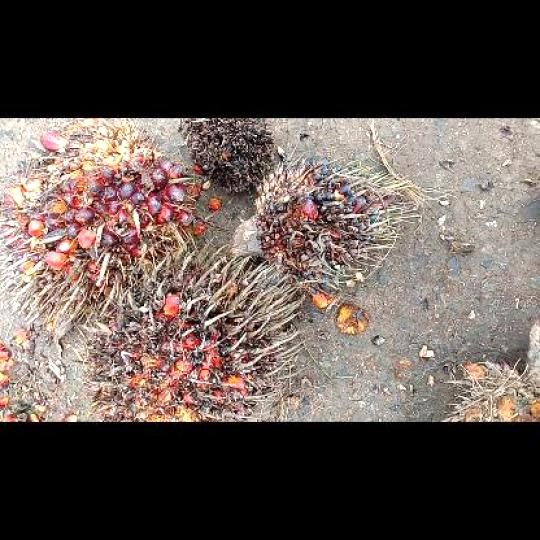masak: (0, 119, 206, 330)
terlalu masak: (74, 237, 304, 420)
